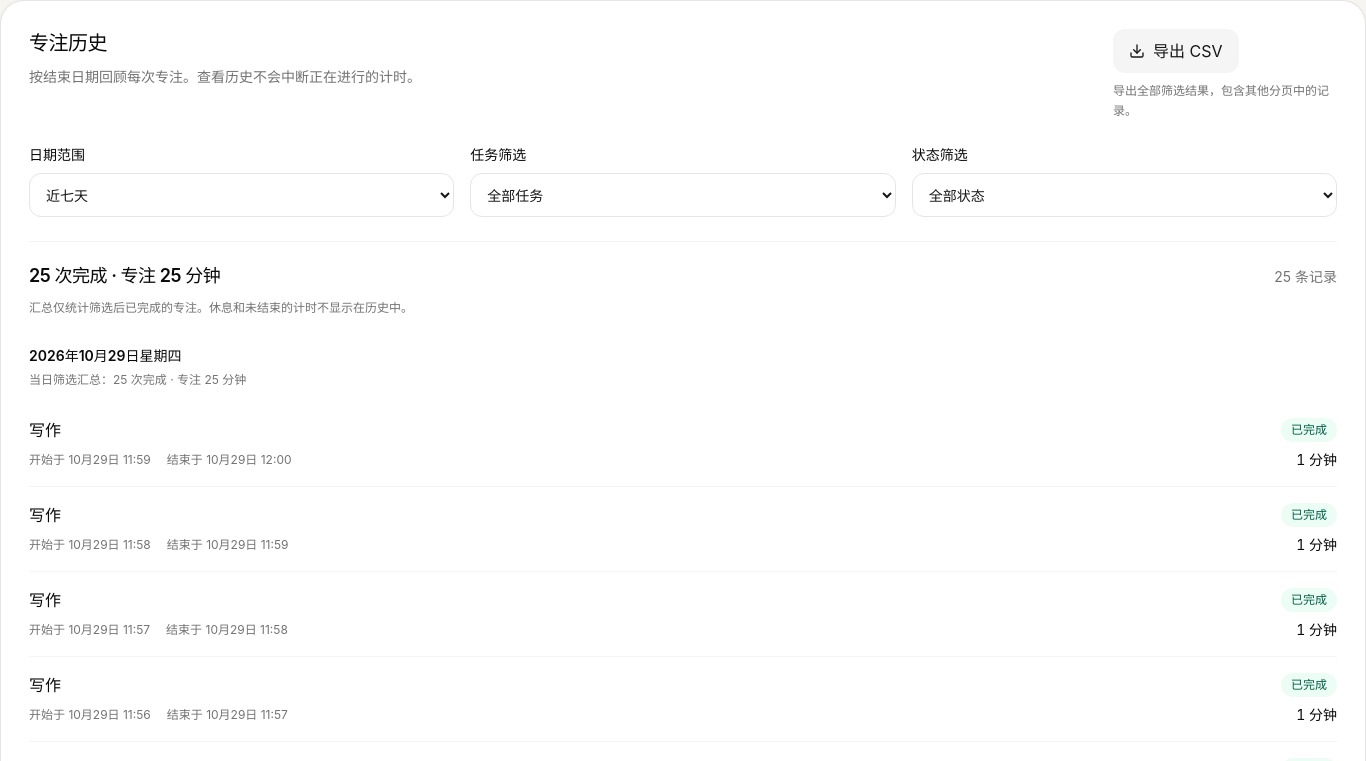
Test: reports a failed download while retaining records and filters
Click the button "导出 CSV" at (1176, 51), box [1113,29,1238,73]
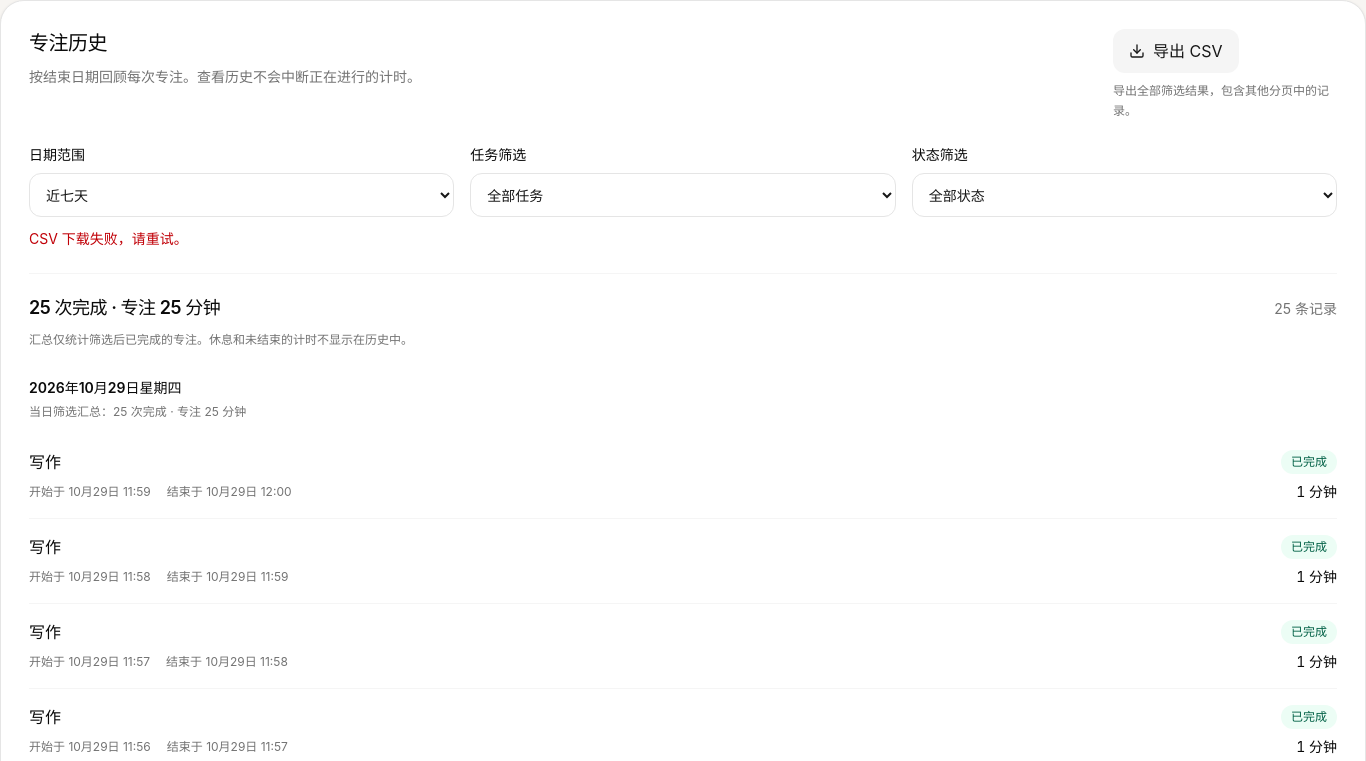
Result: the message "CSV 下载失败，请重试。" is shown at [29,230,188,247]
